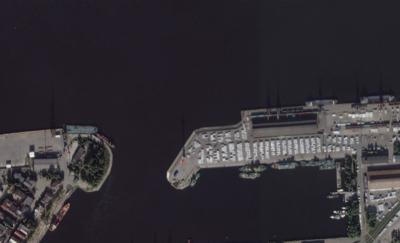Ships: (236, 164, 270, 182)
